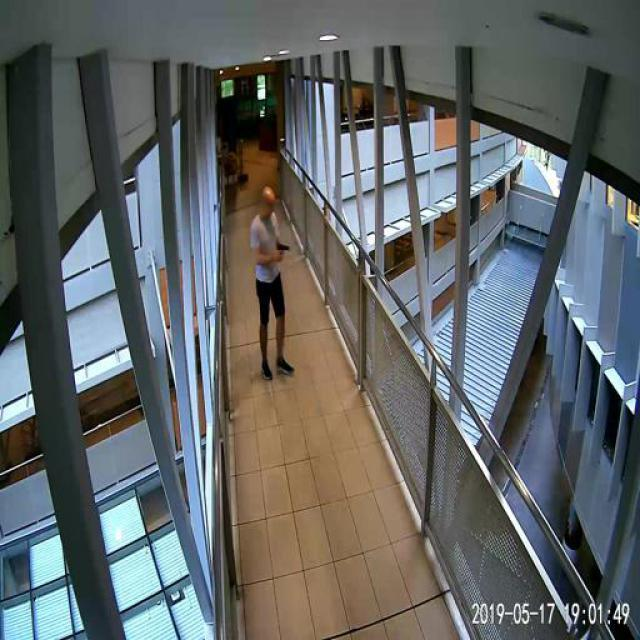gun: (274, 238, 288, 258)
